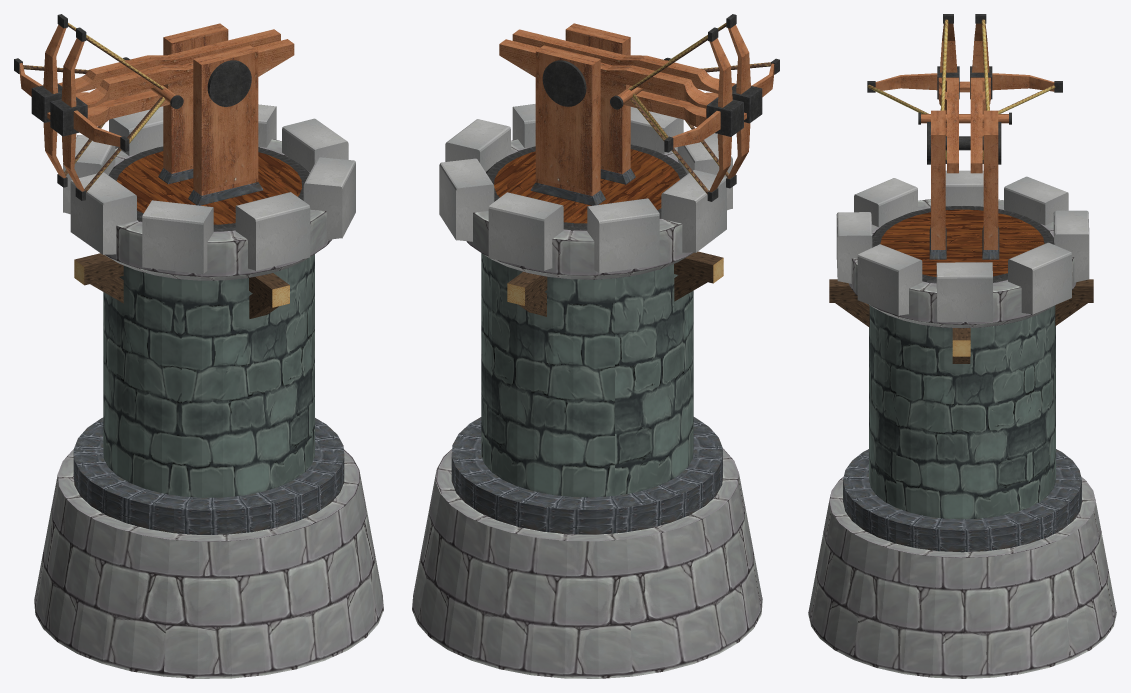
Rendered from torre.fbx.
3 views of the same model, side by side, from view 1: azimuth 30°, elevation 25°; view 2: azimuth 150°, elevation 25°; view 3: azimuth 270°, elevation 25° (orthographic). The views are drawn at different scales.
Visible parts, largest first — view 1: Cylinder, Cube.002, Cylinder.006, Cube, Cylinder.001; view 2: Cylinder, Cube.002, Cylinder.006, Cube, Cylinder.001; view 3: Cylinder, Cube.002, Cylinder.006, Cylinder.001, Cube.
Part boxes in pixels (<box>): Cylinder: <box>34,139,383,678</box>; Cube.002: <box>63,104,355,274</box>; Cylinder.006: <box>14,14,294,200</box>; Cube: <box>158,23,263,205</box>; Cylinder.001: <box>108,146,309,231</box>; Cylinder: <box>412,139,762,678</box>; Cube.002: <box>439,104,732,273</box>; Cylinder.006: <box>499,14,779,201</box>; Cube: <box>530,23,635,205</box>; Cylinder.001: <box>486,144,686,230</box>; Cylinder: <box>808,199,1116,678</box>; Cube.002: <box>836,170,1089,322</box>; Cylinder.006: <box>867,14,1062,173</box>; Cylinder.001: <box>872,206,1054,283</box>; Cube: <box>929,110,999,259</box>.
Bounding box in the file's own units: 221 × 415 × 215.
